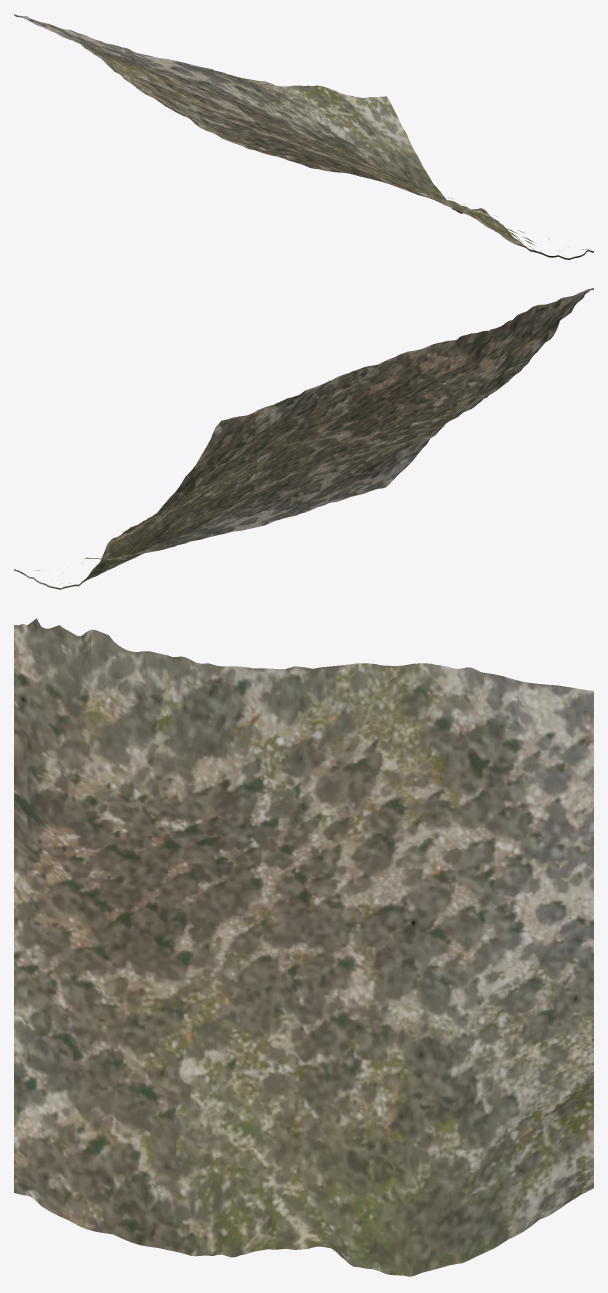
3 views of the same model, one above another, from view 1: azimuth 30°, elevation 25°; view 2: azimuth 150°, elevation 25°; view 3: azimuth 270°, elevation 25° (orthographic). The views are drawn at different scales.
Size of the model in its own units: 250 by 186 by 241.
Materials: 1 (1 with a texture image).
